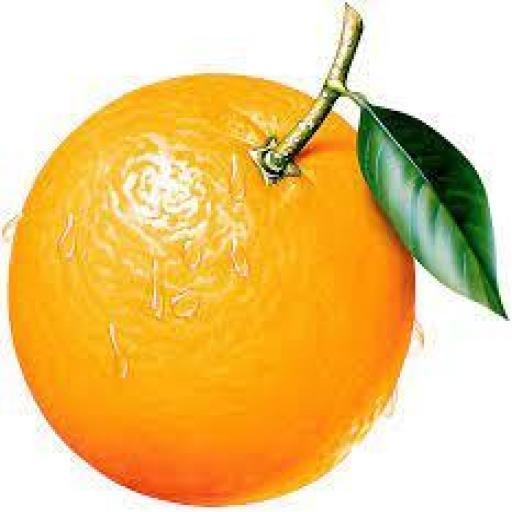orange: (9, 76, 413, 504)
